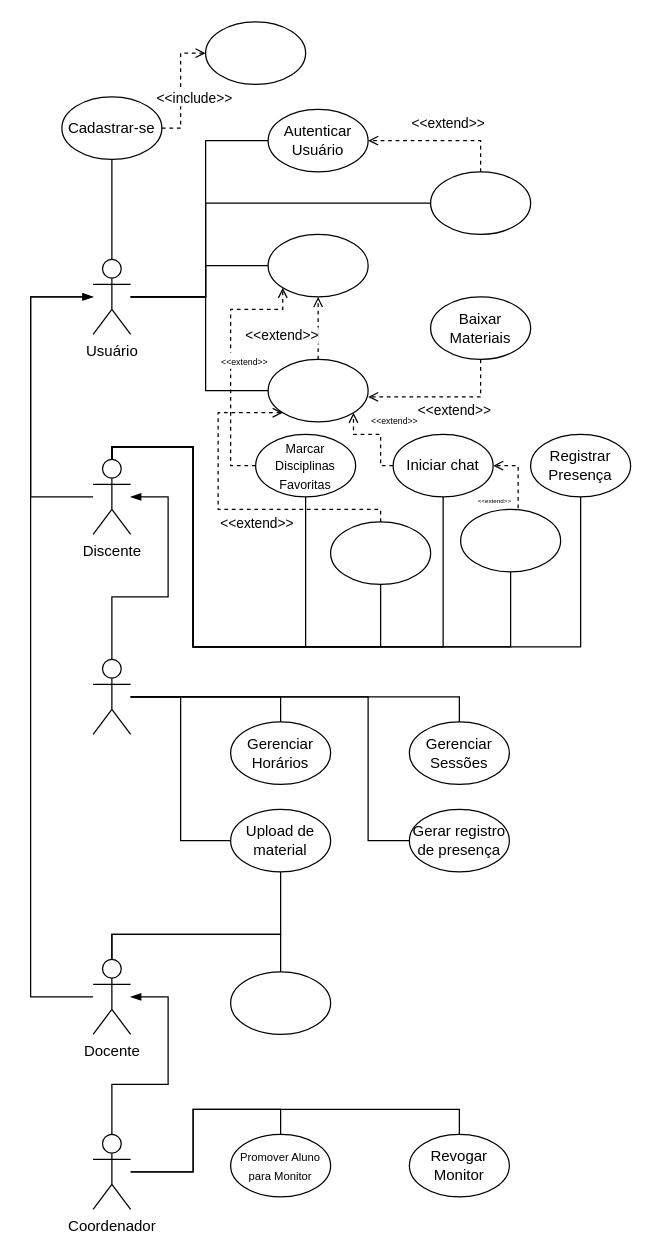
Some shapes in this 653 by 1258 pixel diagram are drawn without their labels. The centre of each missing label's shape, as x and y in pixels:
"Consultar Monitorias" belongs at point 317,265.
"Gerar relatório" belongs at point 280,1002.
"Gerenciar Demonstrações de interesse" belongs at point 380,552.
"Interagir chat" belongs at point 510,540.
"Monitor" belongs at point 111,696.
"Recuperar Senha" belongs at point 480,202.
"Validar e-mail" belongs at point 255,52.
"Visualizar Monitorias" belongs at point 317,390.
